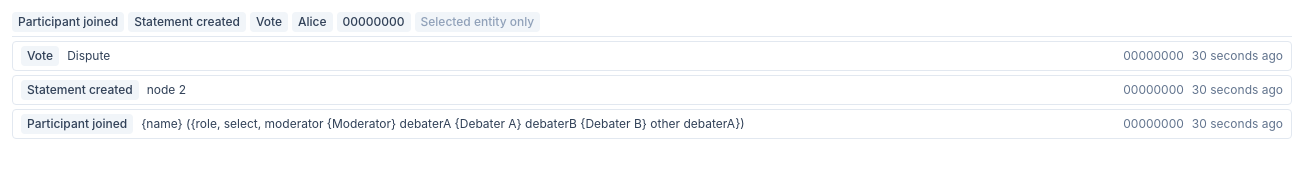
Test: ChangeHistoryPane — filter strip (mod_history_filtering) › a filter that excludes every row surfaces the filtered-empty state, not the default empty
The image size is (1304, 172).
Expected: the list with test id "change-history-pane-list" is shown, top-left (12, 41), bottom-right (1292, 139)
// vote ∩ ACTOR_A → empty (ACTOR_A never voted).
Click the button with test id "change-history-filter-kind" at point(269, 22), box top-left (250, 12), bottom-right (288, 32)
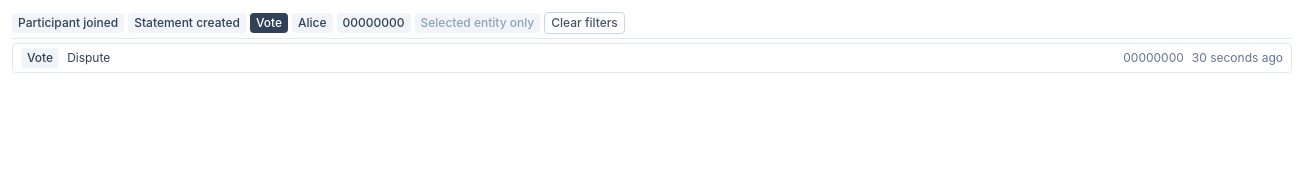
Click the button with test id "change-history-filter-actor" at point(312, 23), box top-left (292, 13), bottom-right (332, 33)
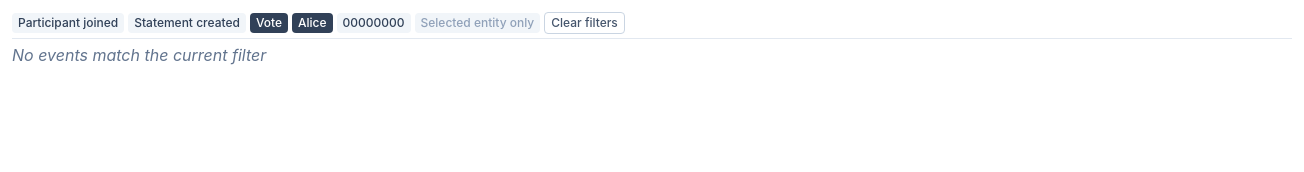
Expected: the element with test id "change-history-filter-strip" is shown, top-left (12, 12), bottom-right (1292, 39)
Expected: no list items with test id "change-history-row" are shown
Expected: the text "No events match the current filter" is shown, top-left (12, 45), bottom-right (266, 65)
